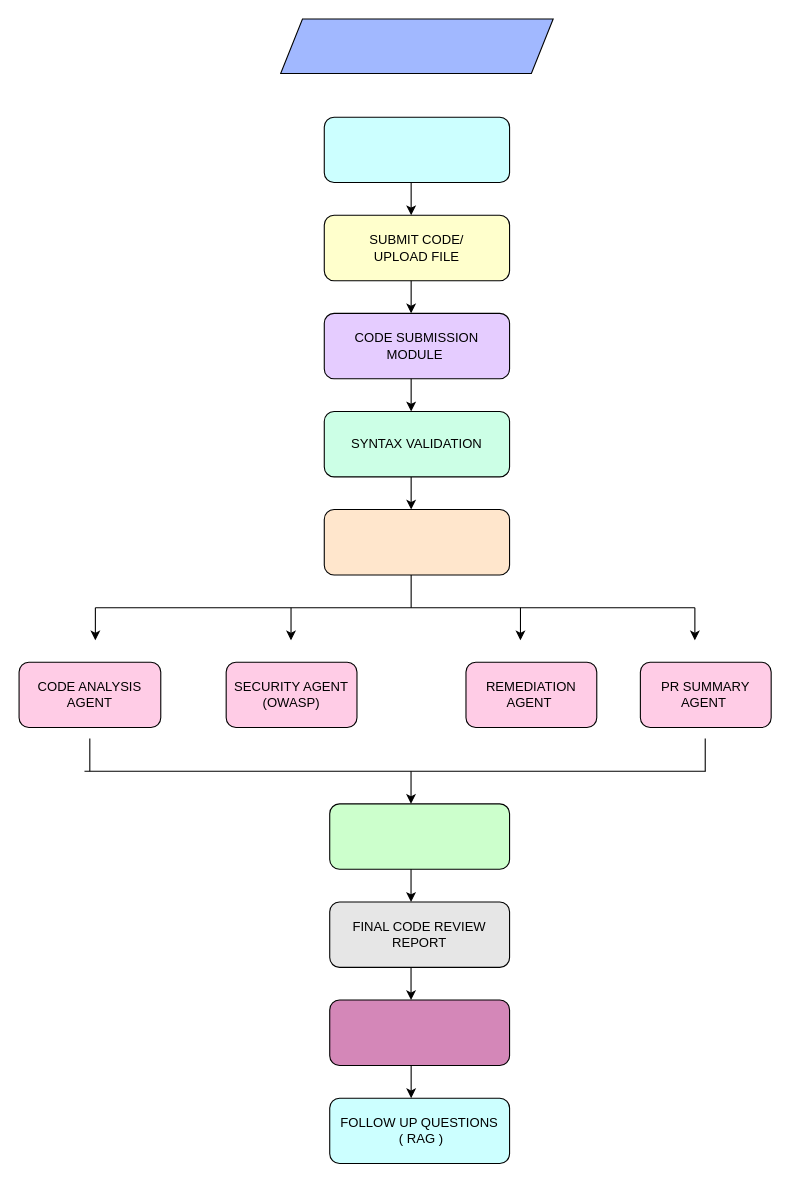
The diagram is 790 pixels wide and 1183 high, and some of its shapes have lost their labels. The centre of each missing label's shape, as x and y in pixels:
CONVERSATIONAL CODE ASSISTANT: the point at 419,1032
DEVELOPER: the point at 416,149
MERGE AGENT RESULTS: the point at 419,836
MULTI - AGENT ORCHESTRATOR: the point at 416,541
MULTI - AGENT WORKFLOW: the point at 416,46
